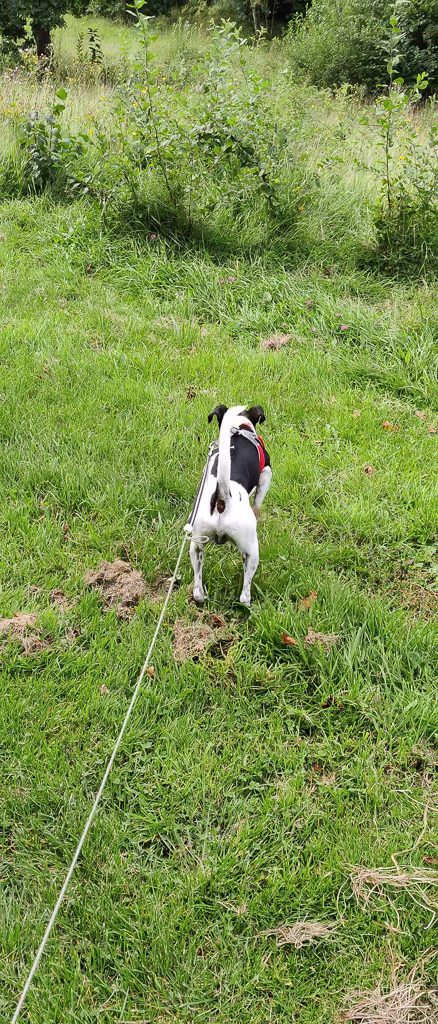Dog: (171, 380, 297, 625)
